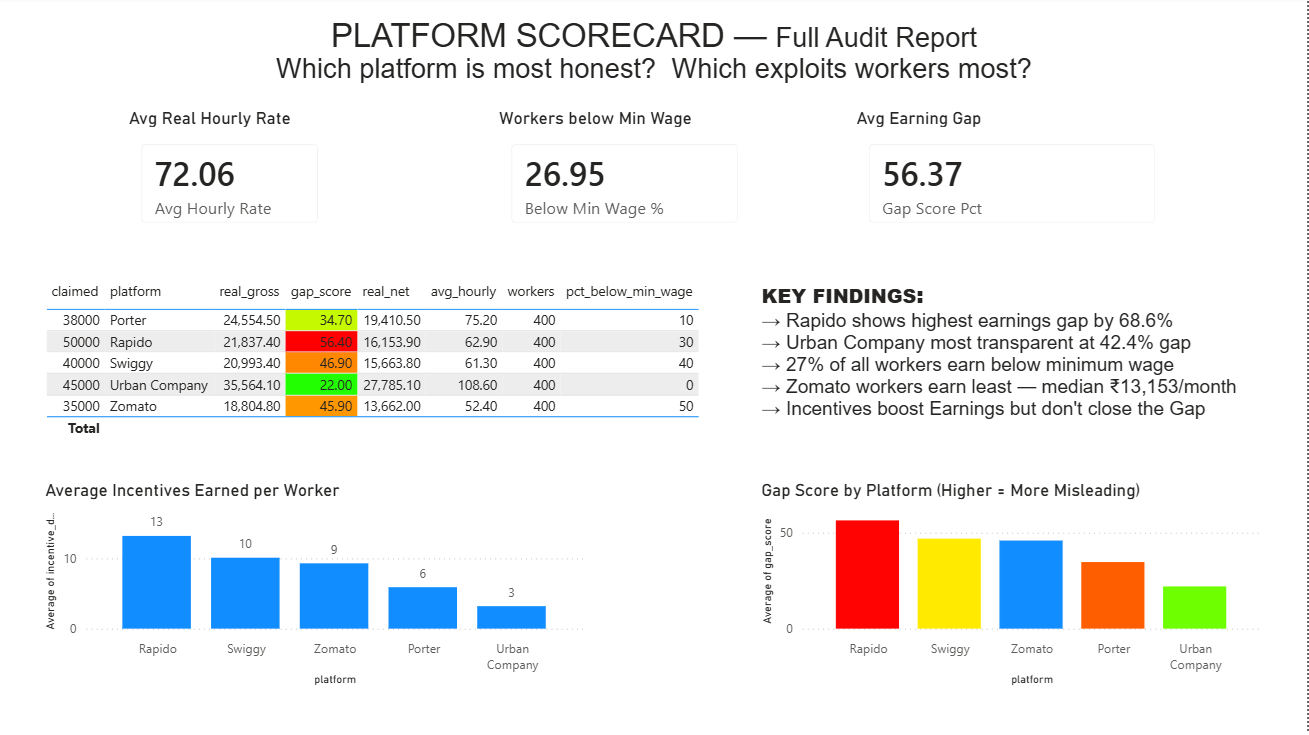

The page's visual inventory and layout, read from the dashboard file:
{"tool":"powerbi","page":{"name":"Platform Scorecard","canvas":[1280,720],"ordinal":3},"visuals":[{"type":"textbox","box":[189.5,15.9,902.5,92.9],"z":0},{"type":"columnChart","title":"Gap Score by Platform (Higher = More Misleading)","fields":{"Category":["platform_audit.platform"],"Y":["Avg(platform_audit.gap_score)"]},"box":[741,473.2,498.9,206.7],"z":1000},{"type":"tableEx","fields":{"Values":["platform_audit.claimed","platform_audit.platform","platform_audit.real_gross","platform_audit.gap_score","platform_audit.real_net","platform_audit.avg_hourly","platform_audit.workers","platform_audit.pct_below_min_wage"]},"box":[40.4,272.7,649.3,172.4],"z":2000},{"type":"columnChart","title":"Average Incentives Earned per Worker","fields":{"Category":["platform_audit.platform"],"Y":["Avg(platform_audit.incentive_dep)"]},"box":[40.4,473.2,536.8,206.7],"z":3000},{"type":"cardVisual","title":"Avg Earning Gap","fields":{"Data":["gig_monthly_with_personas.Gap Score Pct"]},"box":[834,108.8,314.3,130.8],"z":4000},{"type":"cardVisual","title":"Workers below Min Wage","fields":{"Data":["gig_monthly_with_personas.Below Min Wage %"]},"box":[484.2,108.8,256.8,130.8],"z":5000},{"type":"cardVisual","title":"Avg Real Hourly Rate","fields":{"Data":["gig_monthly_with_personas.Avg Hourly Rate"]},"box":[122.3,108.8,207.9,130.8],"z":6000},{"type":"textbox","box":[741,272.7,498.9,155.3],"z":7000}]}

Visuals, with their boxes in screenshot pixels (x1, y1, x2, y2), scaled from the page's 1280x720 canvas onto the 1309x735 screenshot:
textbox: l=194, t=16, r=1117, b=111
"Gap Score by Platform (Higher = More Misleading)" columnChart: l=758, t=483, r=1268, b=694
tableEx - platform_audit.claimed x platform_audit.platform: l=41, t=278, r=705, b=454
"Average Incentives Earned per Worker" columnChart: l=41, t=483, r=590, b=694
"Avg Earning Gap" cardVisual: l=853, t=111, r=1174, b=245
"Workers below Min Wage" cardVisual: l=495, t=111, r=758, b=245
"Avg Real Hourly Rate" cardVisual: l=125, t=111, r=338, b=245
textbox: l=758, t=278, r=1268, b=437
